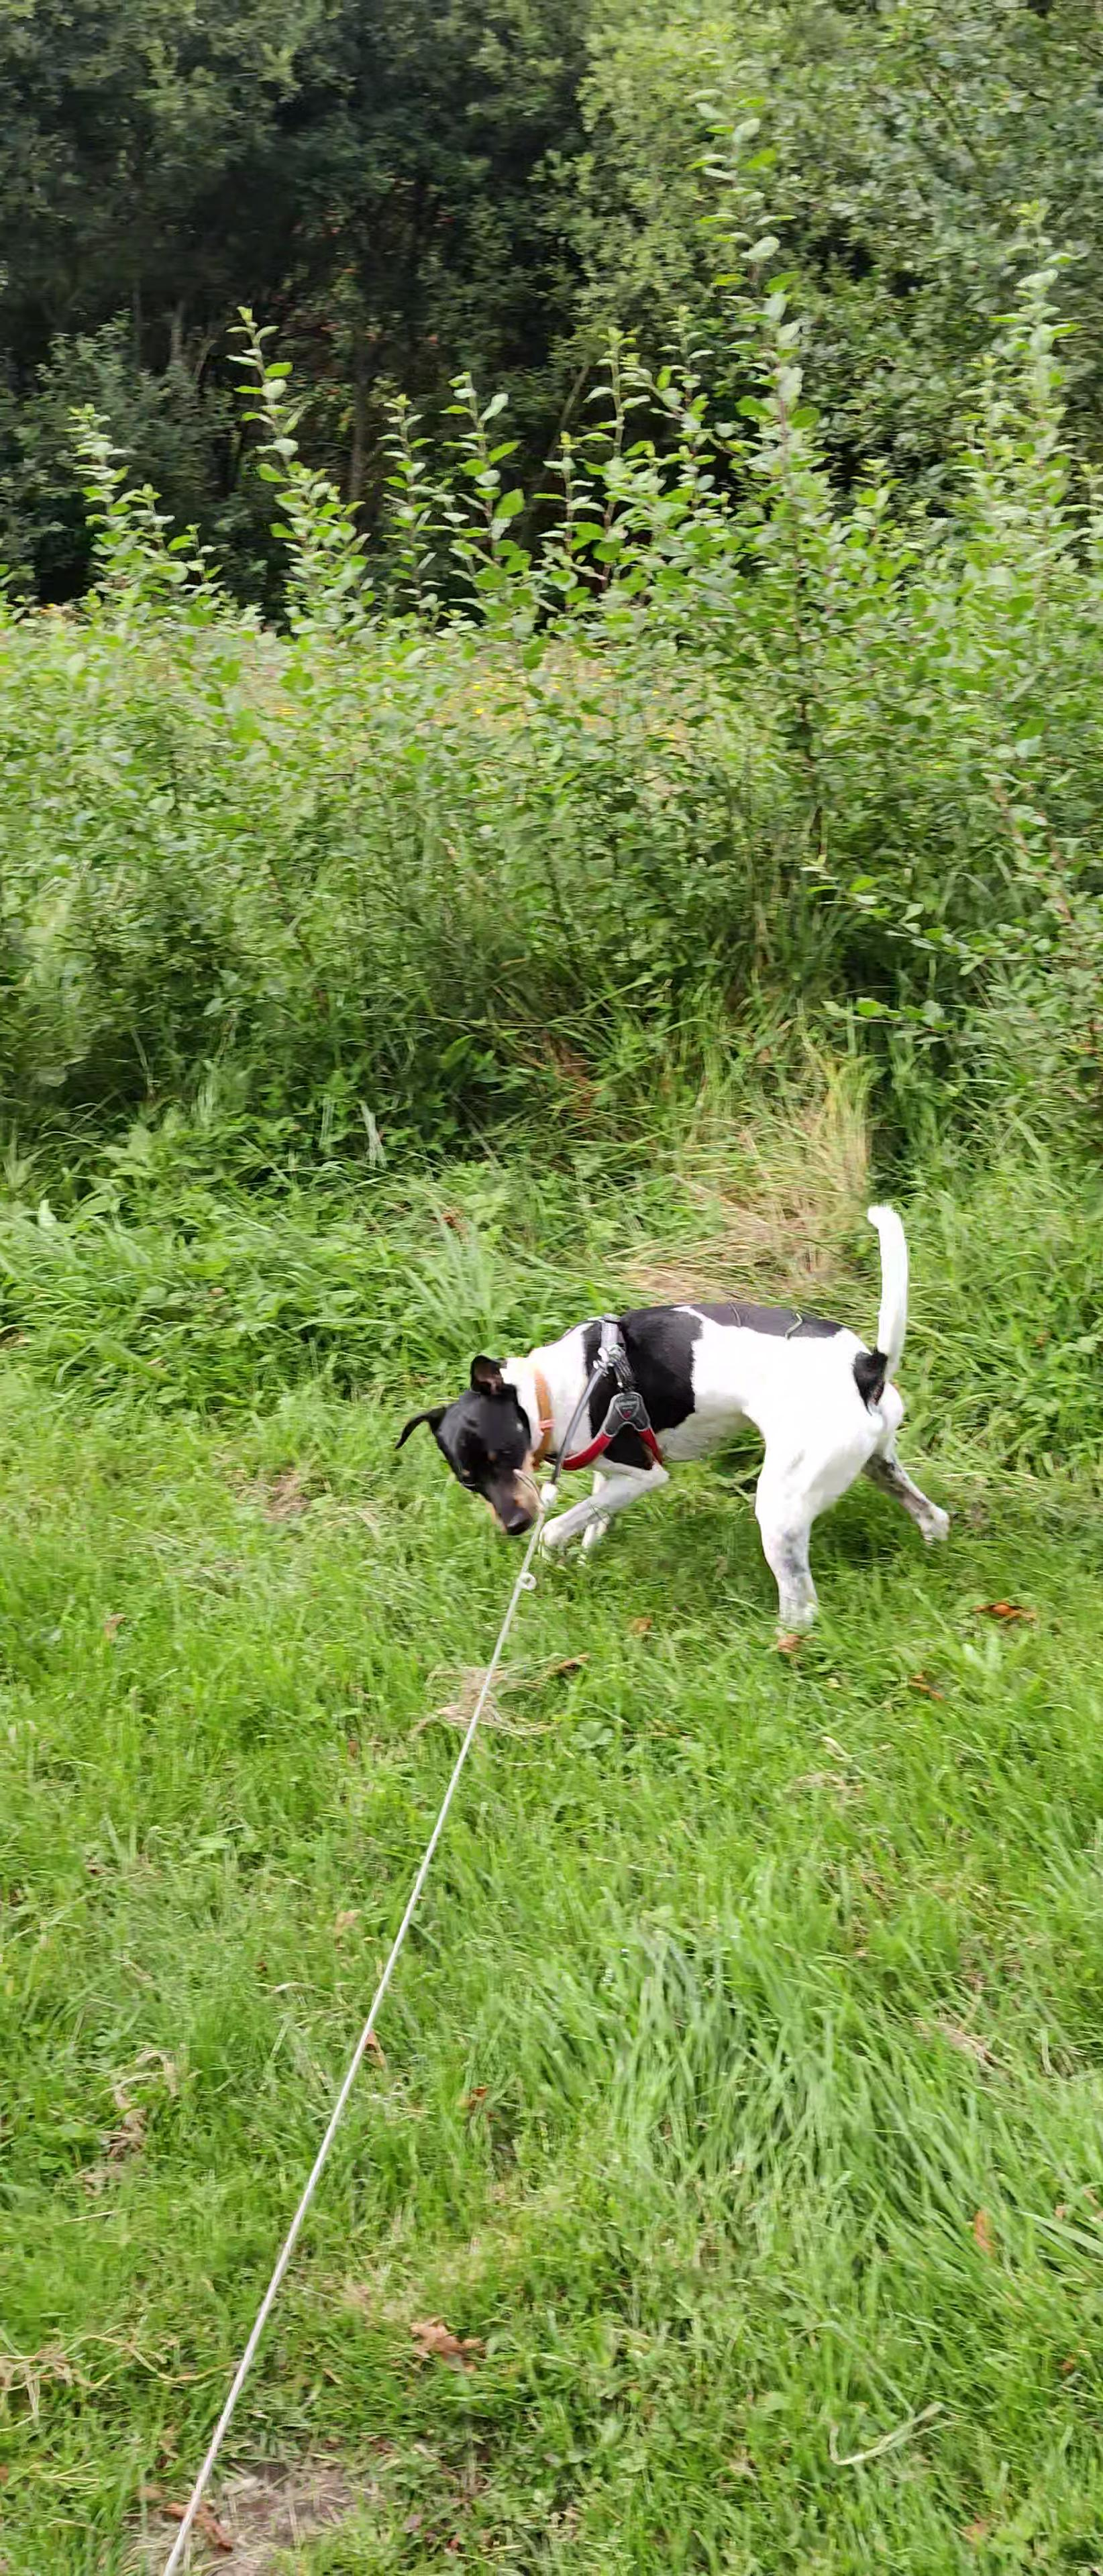Dog: (383, 1199, 957, 1658)
